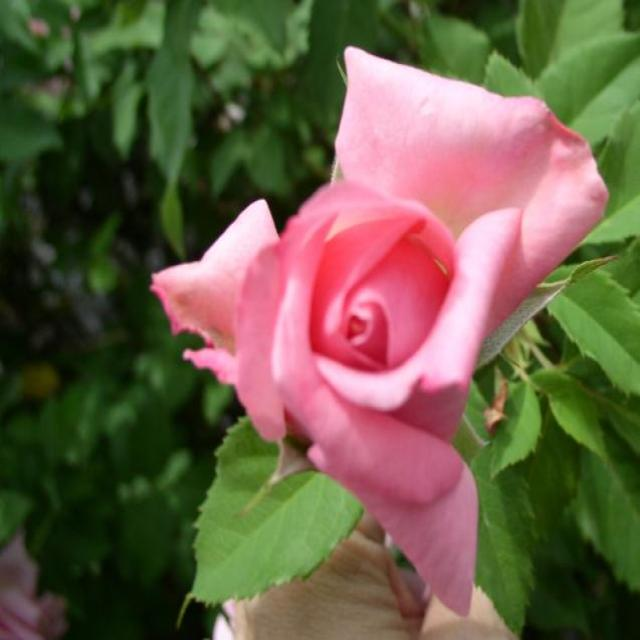rose: (123, 39, 602, 548)
